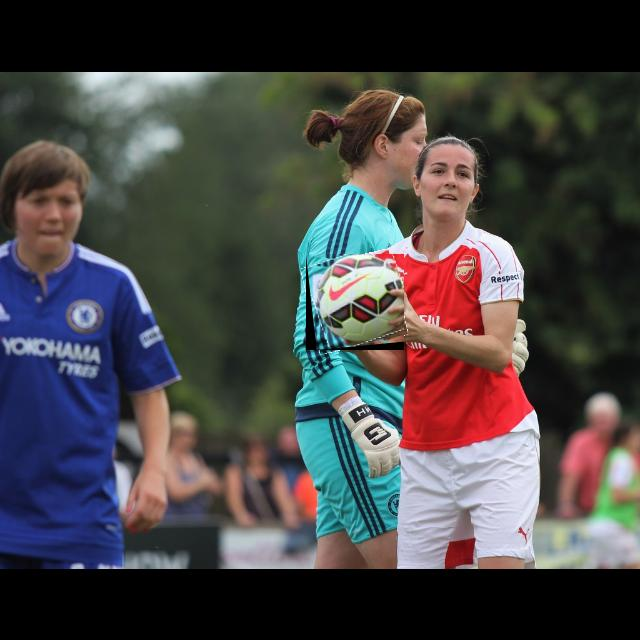Football: (306, 254, 404, 350)
